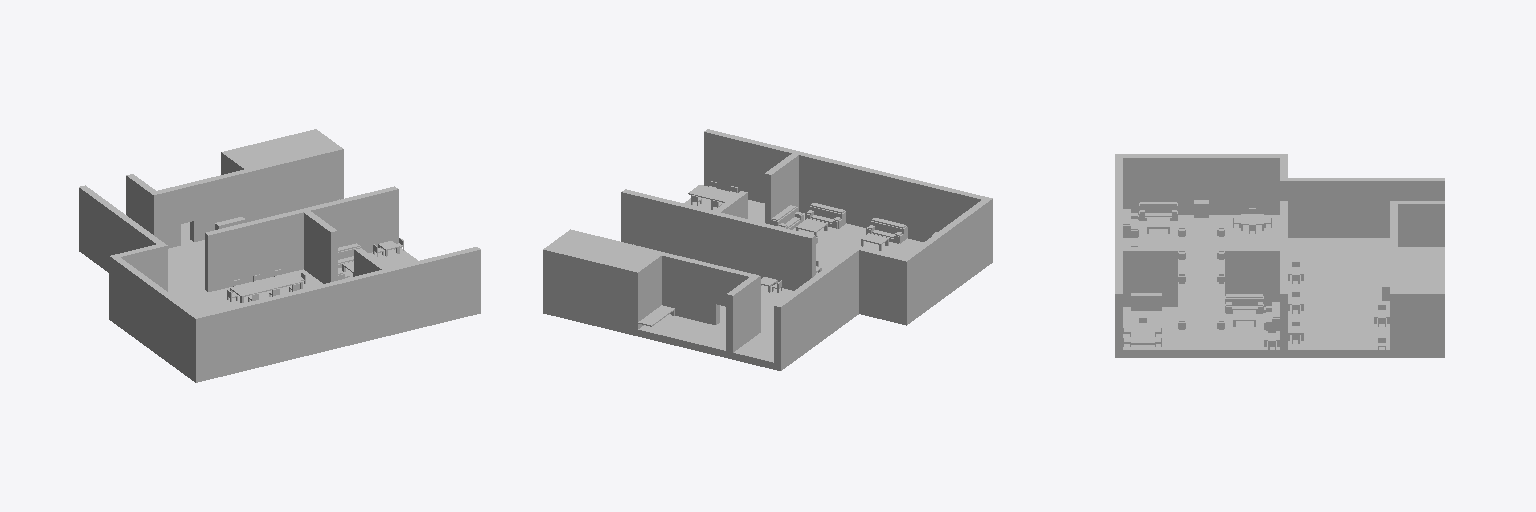
Rendered from unionA.obj.
3 views of the same model, side by side, from view 1: azimuth 30°, elevation 25°; view 2: azimuth 150°, elevation 25°; view 3: azimuth 270°, elevation 25° (orthographic).
Parts seen in each view (by area): view 1: object 1; view 2: object 1; view 3: object 1.
Part boxes in pixels (left/top/right/bottom): object 1: left=79, top=129, right=480, bottom=382; object 1: left=543, top=129, right=992, bottom=370; object 1: left=1115, top=154, right=1444, bottom=357.
Size of the model in its own units: 25.2 by 5.4 by 25.2.